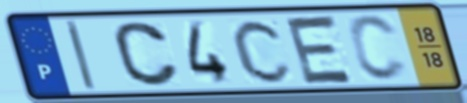4: (186, 19, 233, 86)
C: (110, 19, 182, 88), (345, 12, 412, 84), (230, 16, 296, 85)
E: (282, 13, 358, 87)
I: (62, 18, 100, 94)
